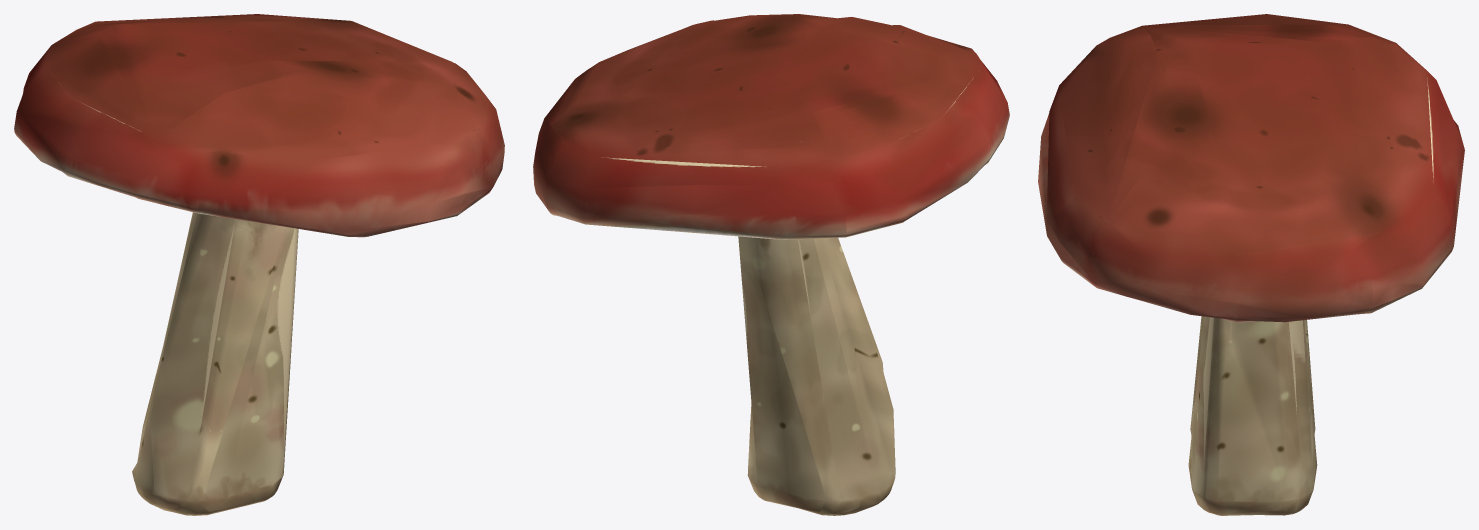
Rendered from Mushroom_LOD2.fbx.
3 views of the same model, side by side, from view 1: azimuth 30°, elevation 25°; view 2: azimuth 150°, elevation 25°; view 3: azimuth 270°, elevation 25° (orthographic). The views are drawn at different scales.
Visible parts, largest first — view 1: Mushroom_LOD2; view 2: Mushroom_LOD2; view 3: Mushroom_LOD2.
Part boxes in pixels (x1,y1,x2,y2): Mushroom_LOD2: (14,14,504,515); Mushroom_LOD2: (533,14,1009,515); Mushroom_LOD2: (1038,14,1464,515).
Size of the model in its own units: 12.18 by 12.34 by 10.74.
